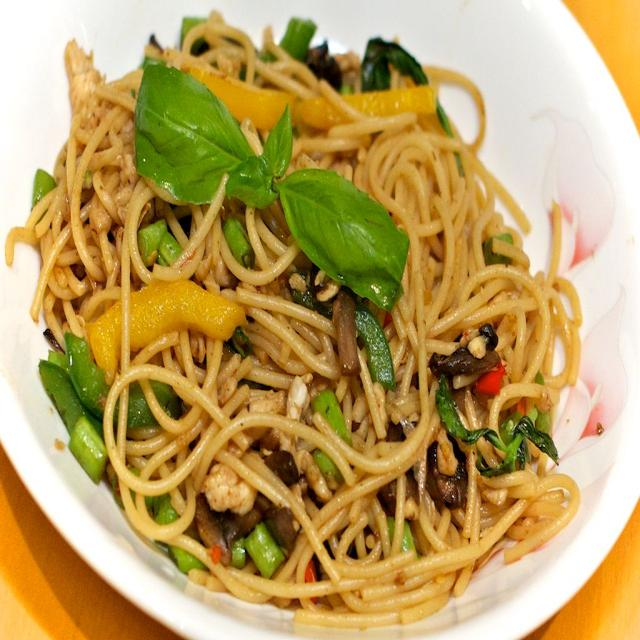carb: (103, 105, 592, 625), (22, 32, 342, 331), (232, 199, 333, 360)
meat: (66, 41, 104, 116), (204, 463, 257, 514), (287, 377, 311, 421), (251, 401, 272, 413)
vegetable: (136, 65, 410, 311), (136, 65, 277, 208), (430, 325, 559, 479), (182, 65, 349, 131), (41, 335, 112, 482), (131, 281, 247, 352), (210, 499, 296, 578), (335, 291, 396, 391), (281, 19, 341, 91), (362, 39, 429, 92), (346, 87, 437, 117), (89, 303, 122, 384), (427, 447, 470, 509), (314, 389, 352, 444), (140, 223, 182, 267), (224, 217, 255, 268), (129, 385, 152, 437), (155, 383, 185, 416), (147, 497, 180, 527), (171, 547, 206, 575), (316, 451, 342, 485), (34, 171, 57, 206), (182, 19, 201, 42), (402, 521, 416, 552), (387, 517, 396, 542)
